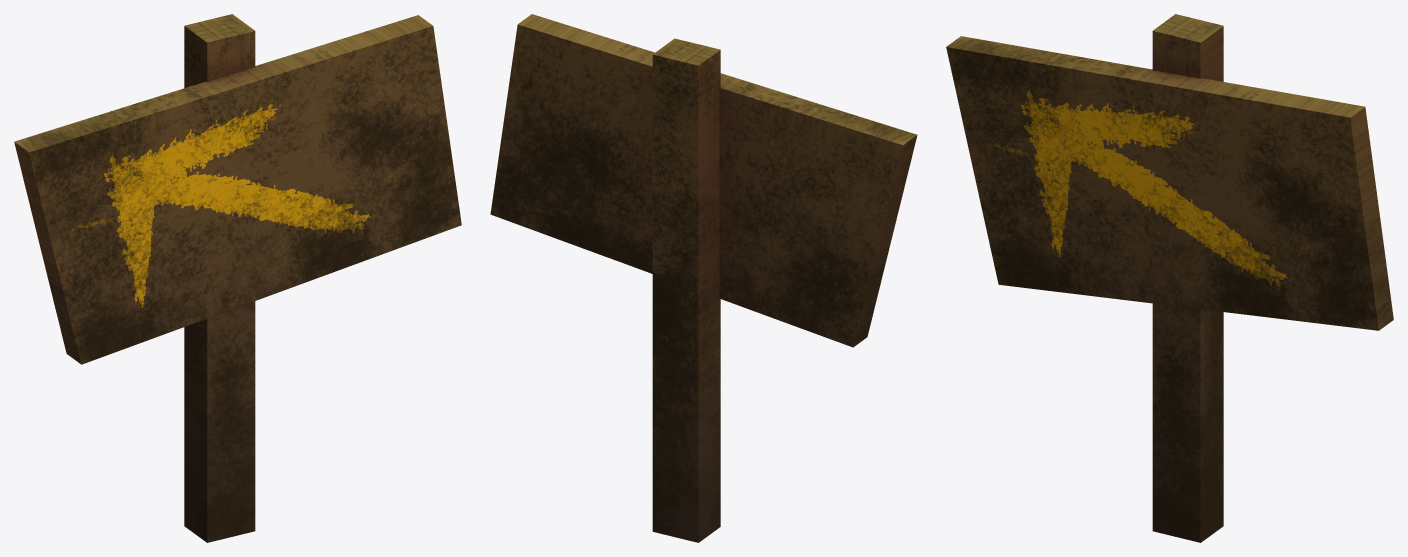
The model's file is Signboard3.glb.
The picture shows the model from 3 angles, left to right: view 1: azimuth 30°, elevation 25°; view 2: azimuth 150°, elevation 25°; view 3: azimuth 330°, elevation 25°; orthographic projection. The views are drawn at different scales.
Parts seen in each view (by area): view 1: pCube6; view 2: pCube6; view 3: pCube6.
Part boxes in pixels (left/top/right/bottom): pCube6: left=14, top=14, right=461, bottom=542; pCube6: left=490, top=14, right=917, bottom=542; pCube6: left=946, top=14, right=1393, bottom=542.
Bounding box in the file's own units: 1.02 × 1.12 × 0.151.
1 material, 1 textured.
